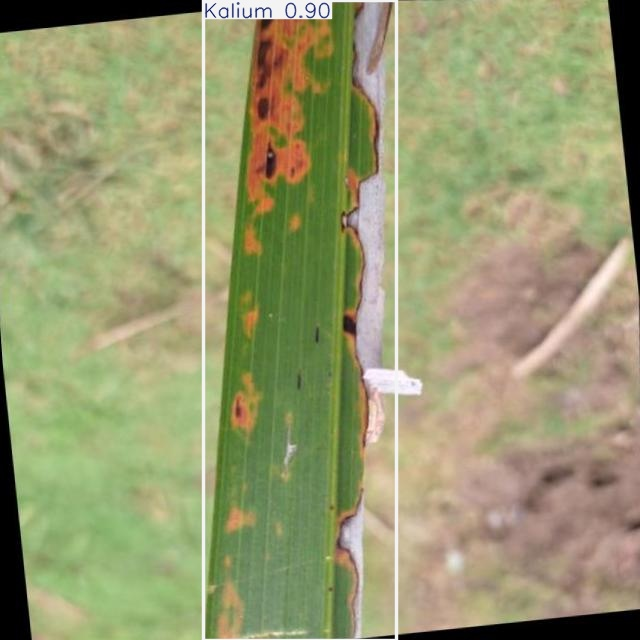Kalium: (204, 1, 396, 640)
